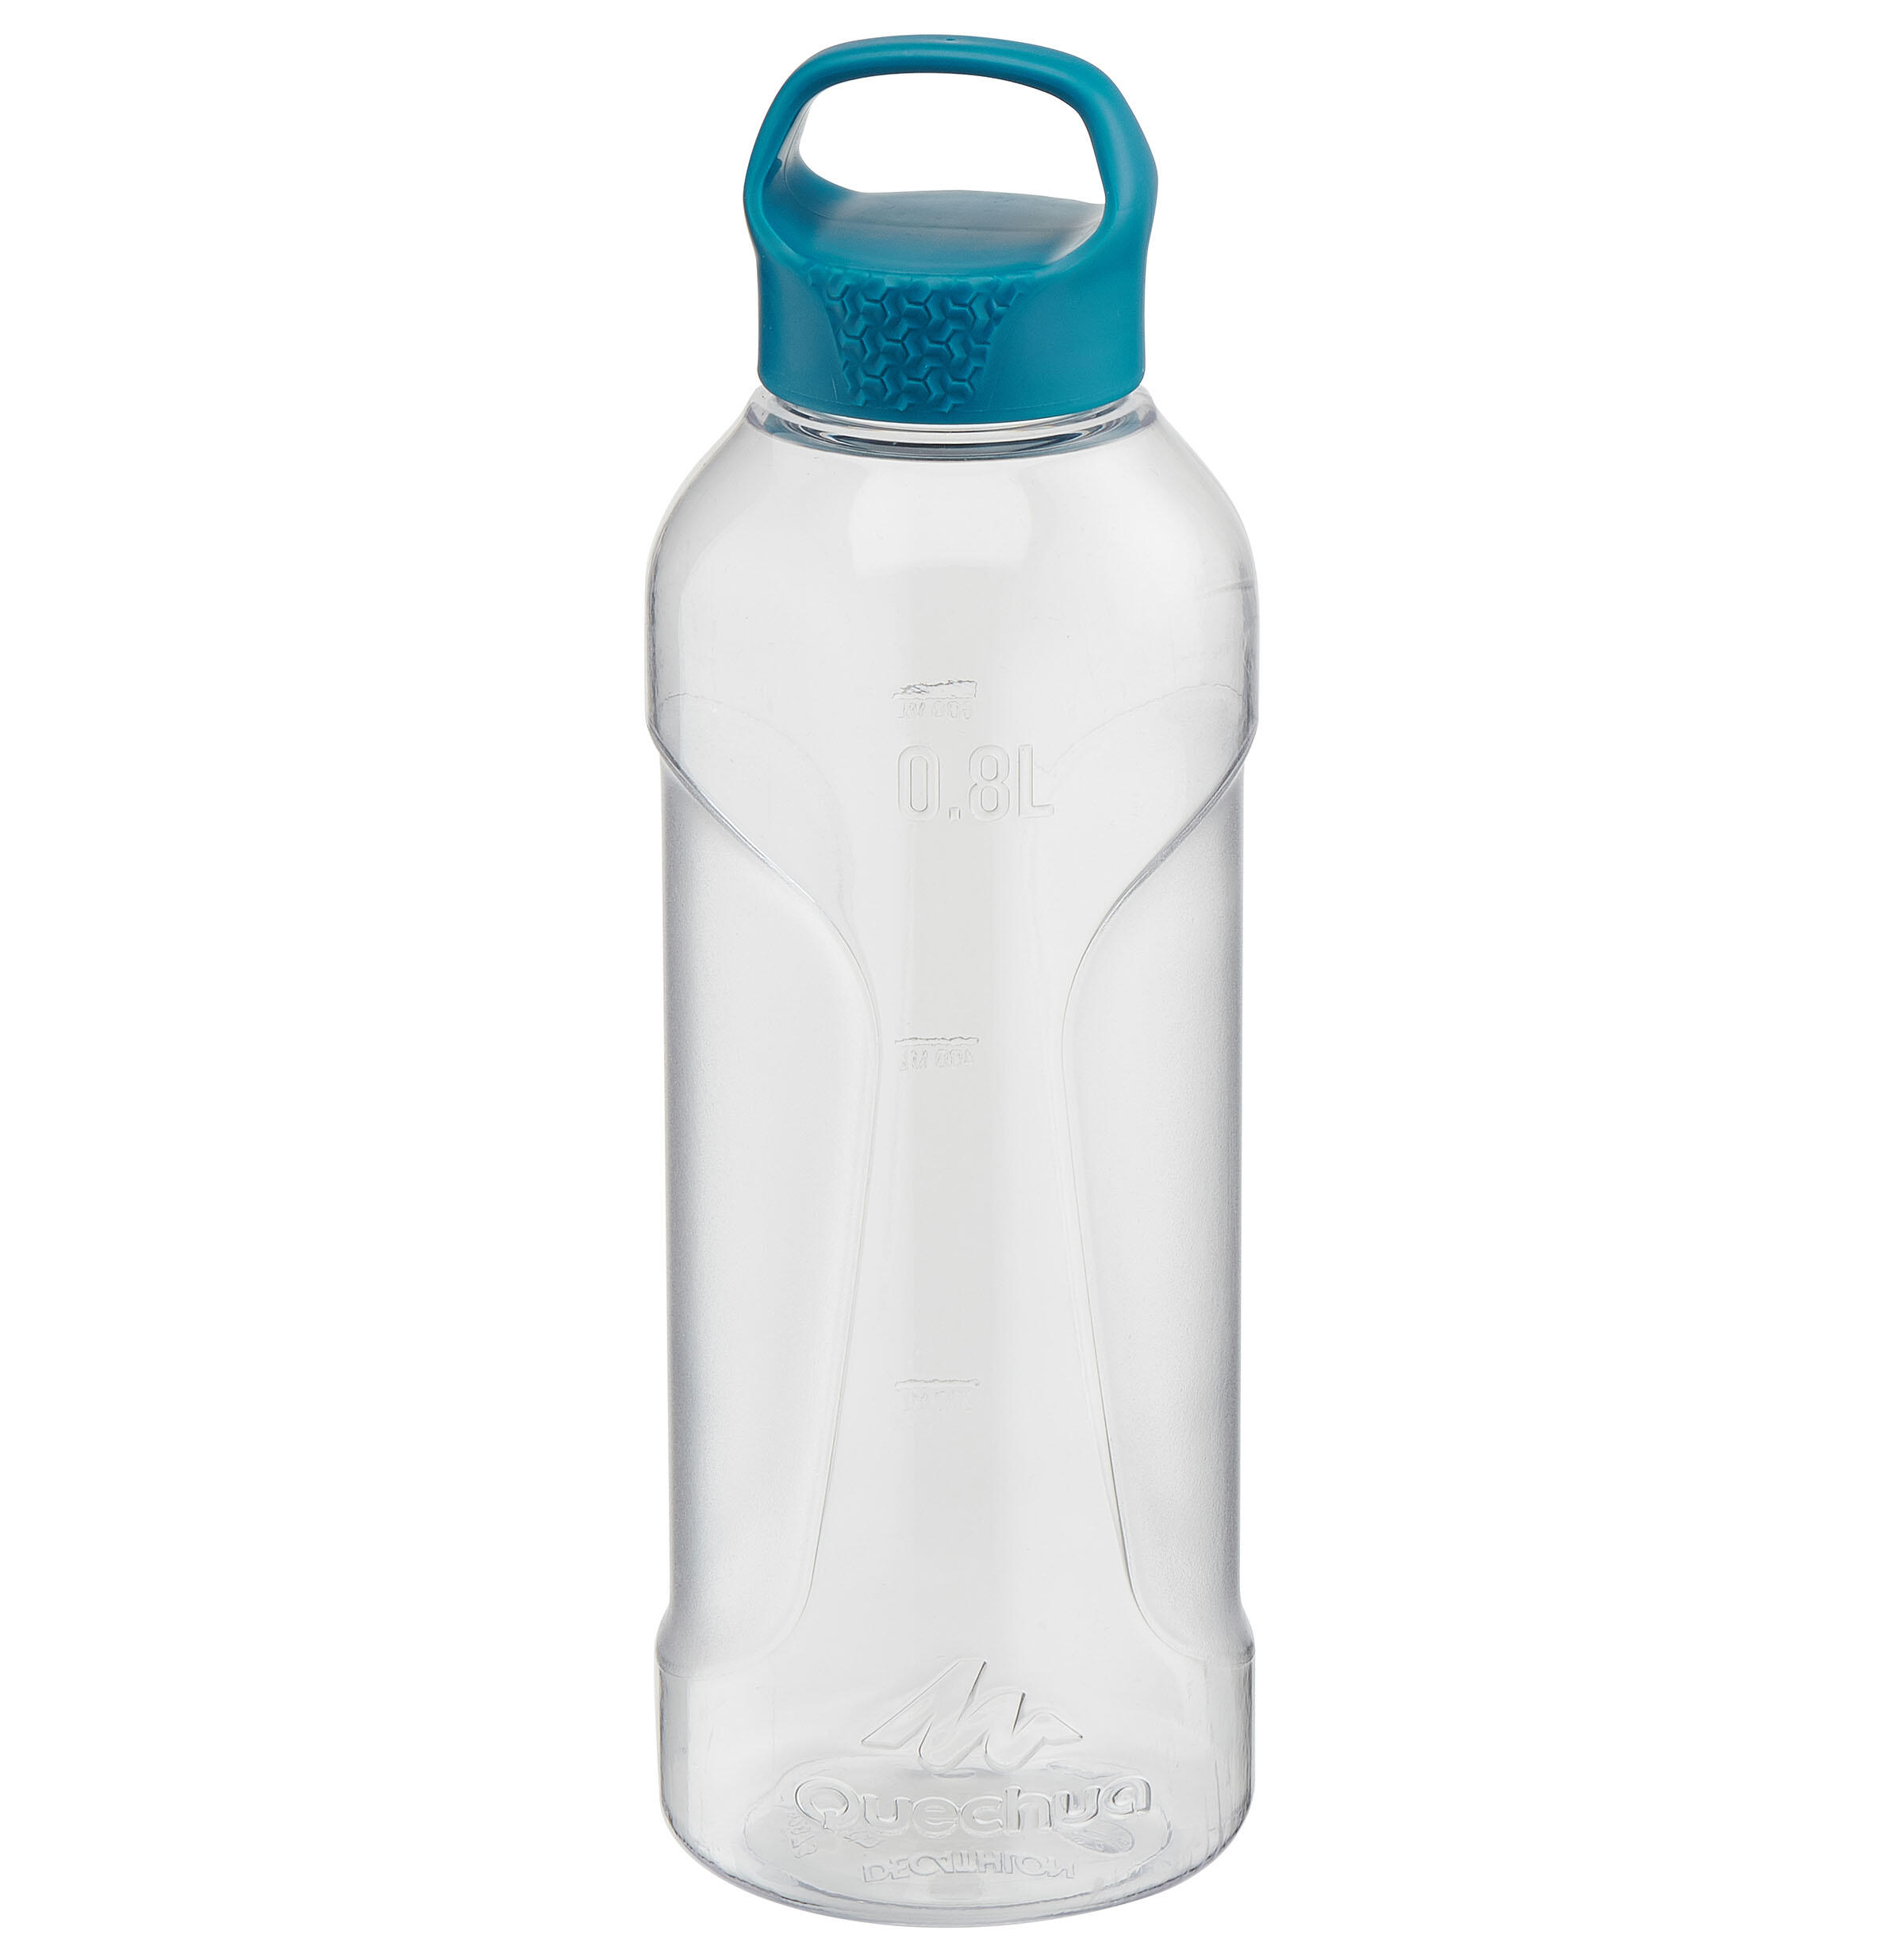bottle_cap: (640, 31, 1326, 431)
water_bottle: (553, 24, 1419, 1933)
